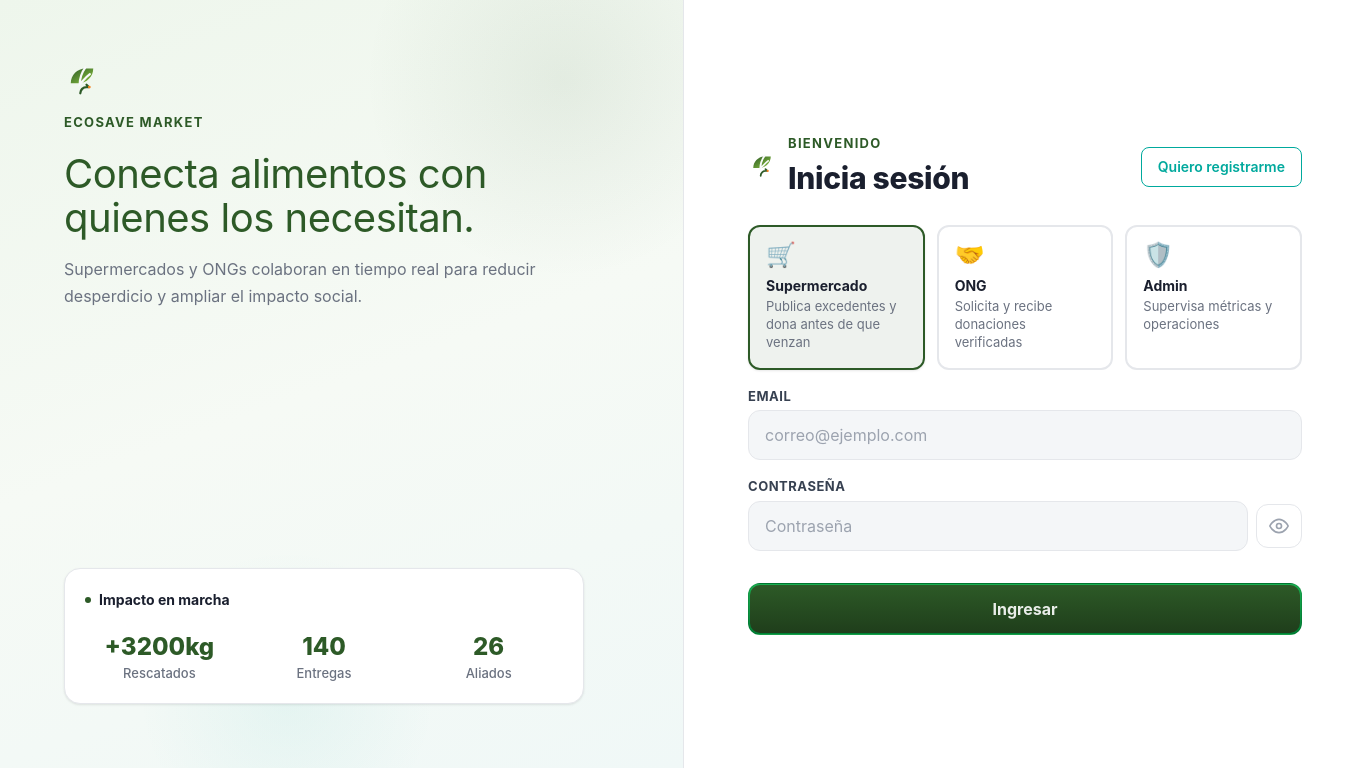
Scenario: AuthForm — validaciones en modo registro › error cuando el nombre del negocio está vacío
This screenshot has width=1366, height=768.
Click the button "Quiero registrarme" at (1221, 167), box [1141,147,1302,187]
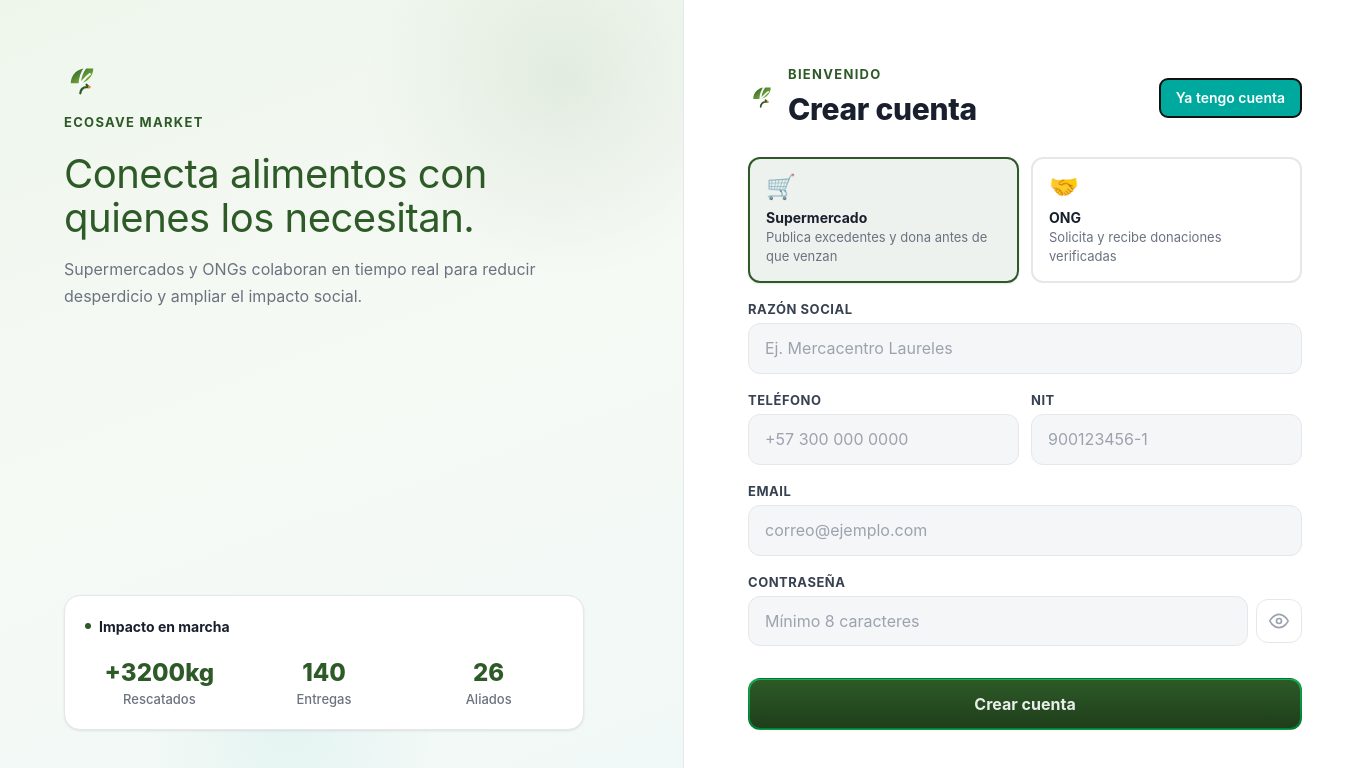
Type "x@x.com" into the field with placeholder "correo@ejemplo.com" at (1025, 530), box [748,505,1302,556]
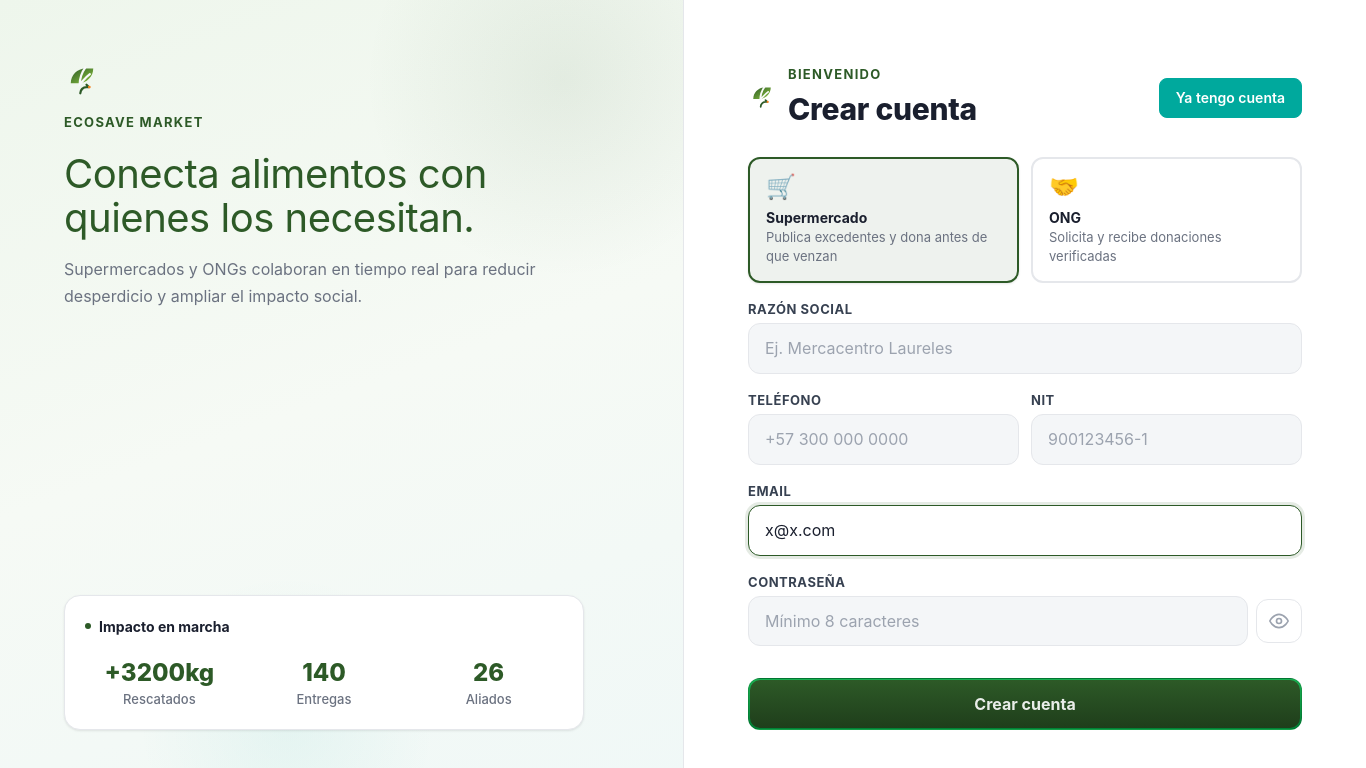
Type "Password1" into the password field with placeholder "Mínimo 8 caracteres" at (998, 621), box [748,596,1248,646]
(page scrolled)
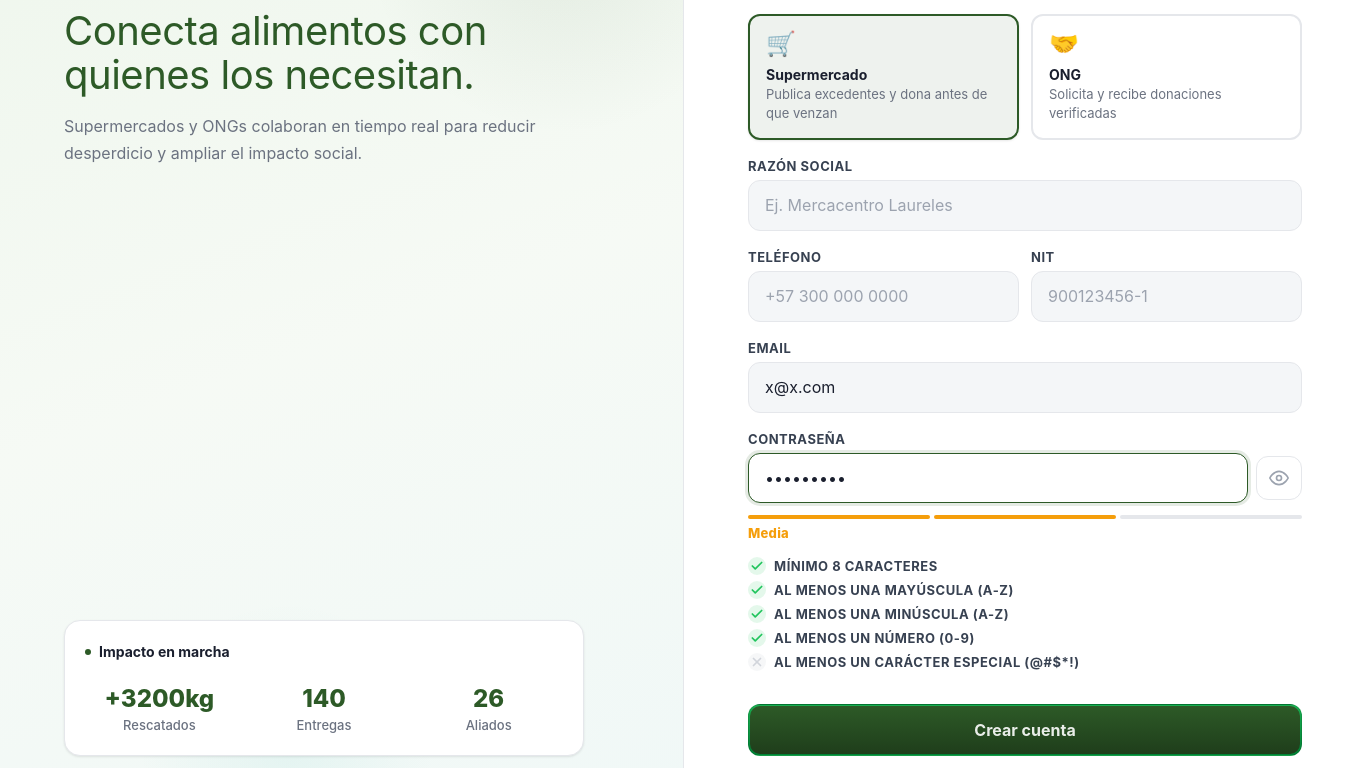
Submit the form named "crear cuenta", box [748,14,1302,756]
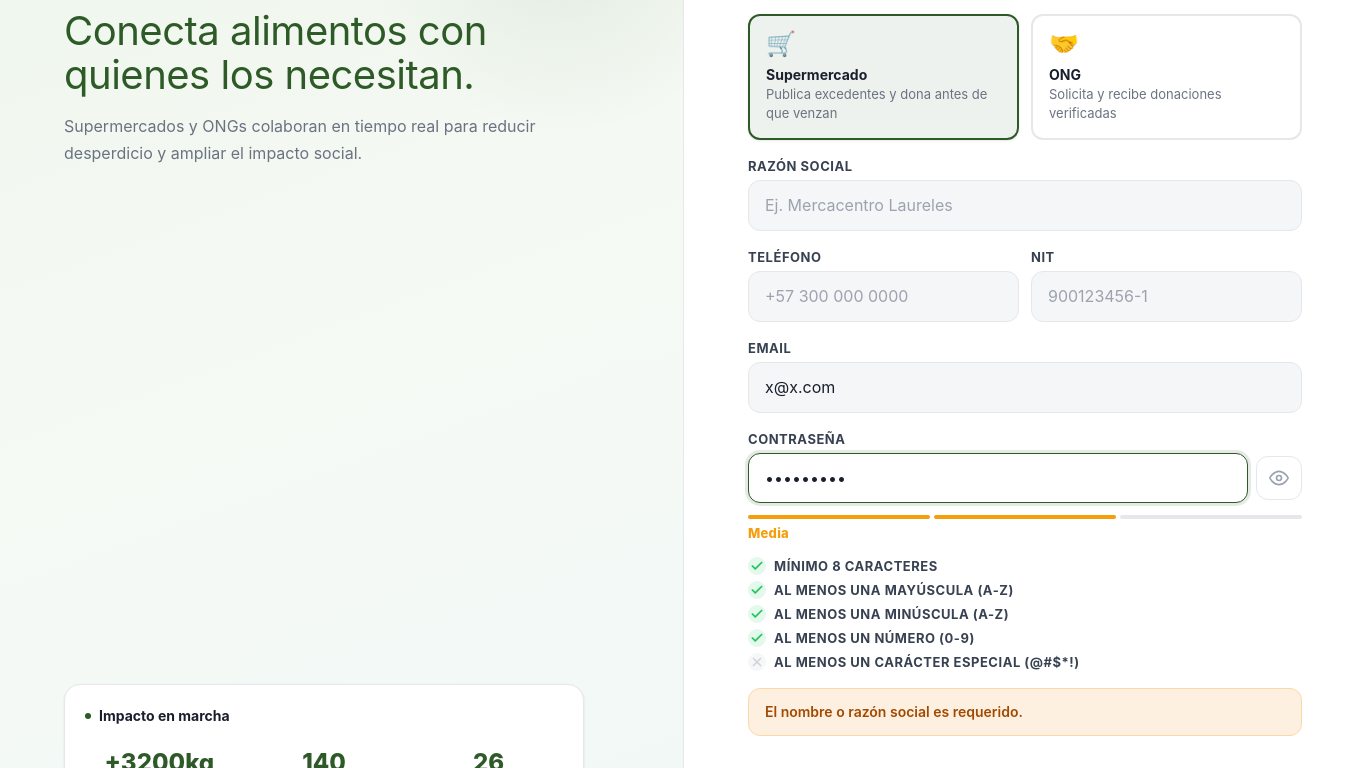
Expected: the text "El nombre o razón social es requerido." is shown, [748,688,1302,736]
